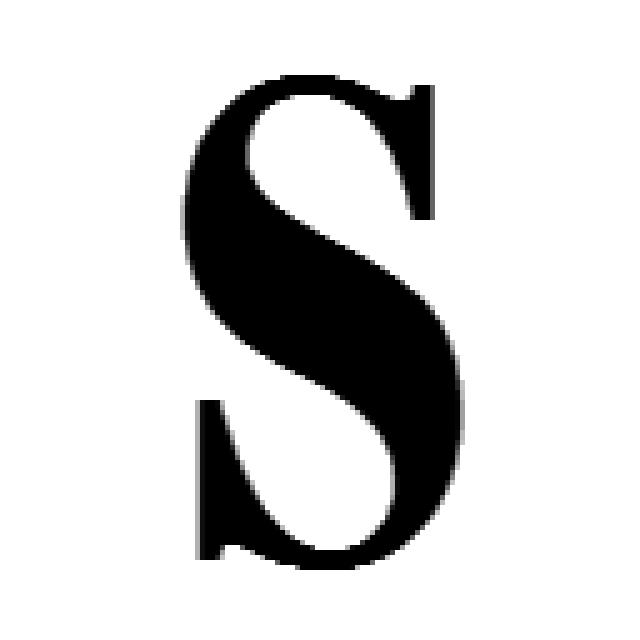S: (170, 65, 470, 575)
